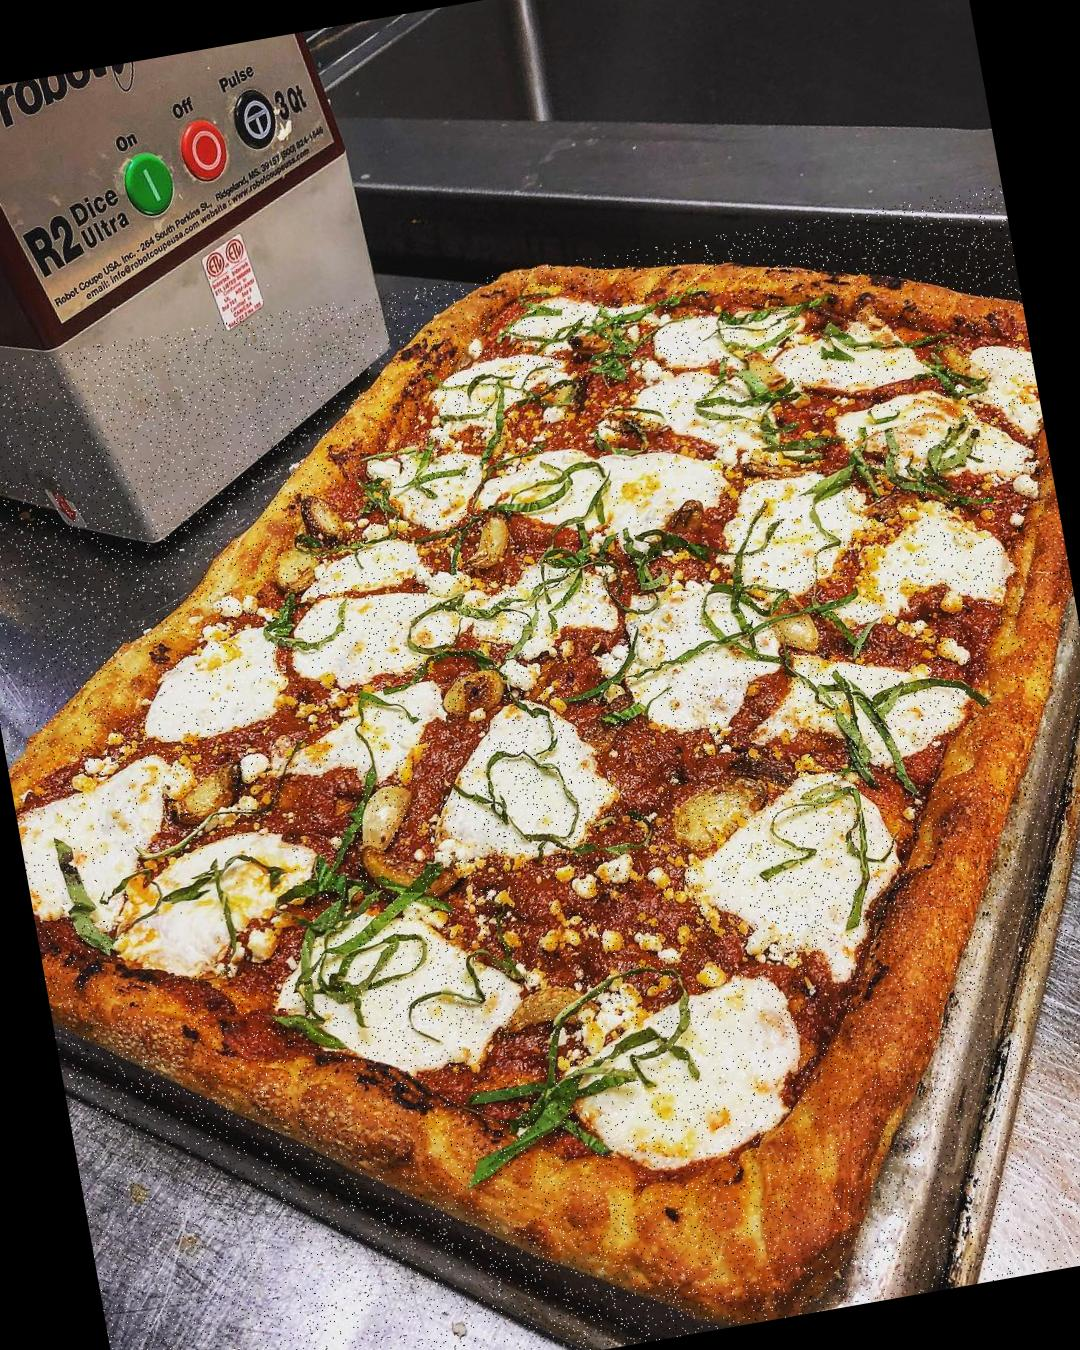Cheese: (654, 762, 922, 995), (273, 893, 541, 1108), (563, 978, 810, 1185), (412, 690, 615, 868), (482, 426, 723, 573), (747, 633, 986, 778), (97, 830, 311, 986), (11, 756, 184, 930), (611, 581, 758, 733), (821, 497, 1005, 618), (264, 680, 453, 798), (290, 579, 454, 692), (719, 469, 862, 595), (131, 624, 283, 739)
Pizza: (0, 184, 1080, 1350)
